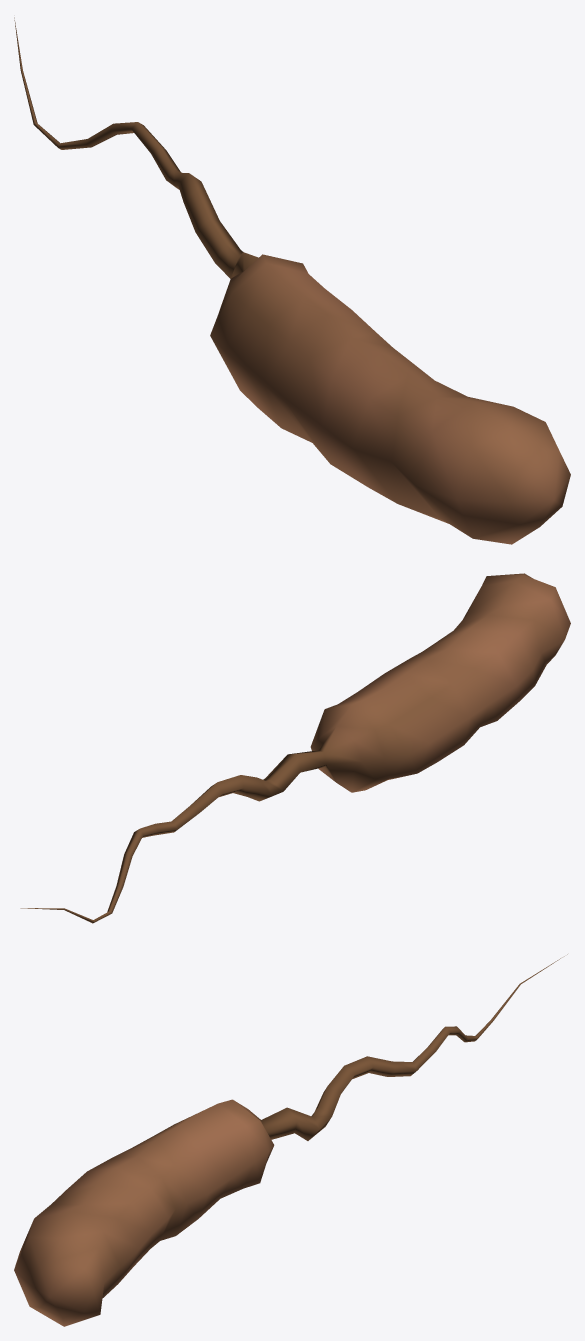
Rendered from microscopic-bacteria-comma-bacterium_v3.glb.
3 renders of one model, top to bottom at view 1: azimuth 30°, elevation 25°; view 2: azimuth 150°, elevation 25°; view 3: azimuth 330°, elevation 25°, orthographic. The views are drawn at different scales.
Parts seen in each view (by area): view 1: Comma Bacterium_v3; view 2: Comma Bacterium_v3; view 3: Comma Bacterium_v3.
Part boxes in pixels (x1=…): Comma Bacterium_v3: x1=14, y1=17, x2=570, y2=544; Comma Bacterium_v3: x1=20, y1=573, x2=570, y2=923; Comma Bacterium_v3: x1=14, y1=954, x2=567, y2=1326.
Size of the model in its own units: 0.0834 by 0.0588 by 0.5.
